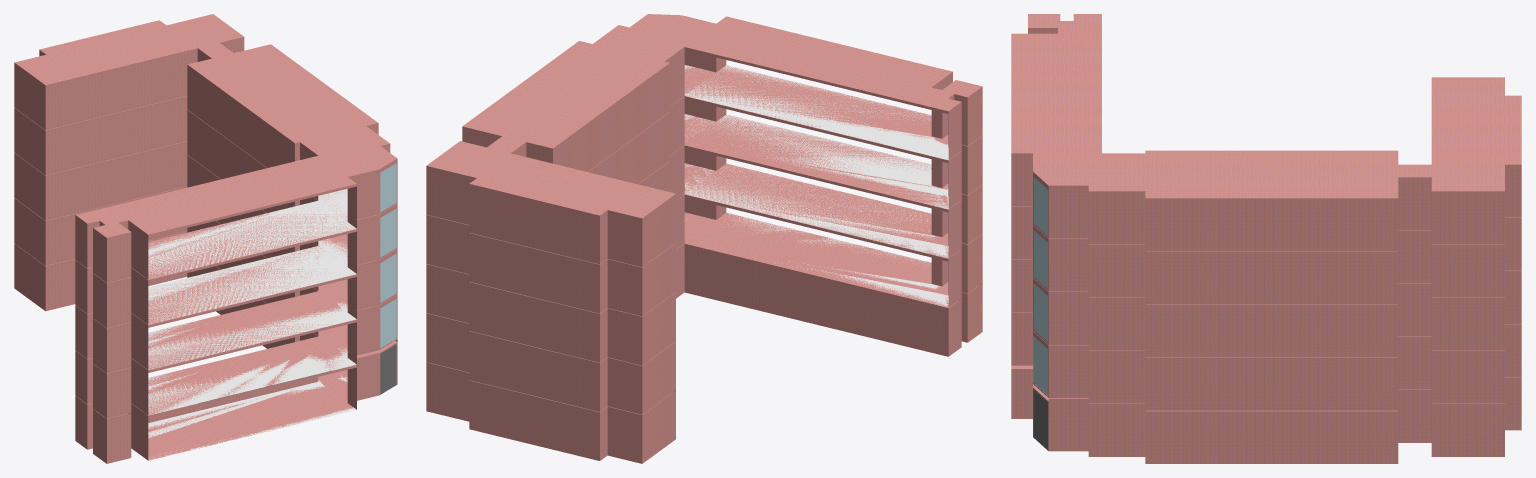
Rendered from inforch.gltf.
The picture shows the model from 3 angles, left to right: view 1: azimuth 30°, elevation 25°; view 2: azimuth 150°, elevation 25°; view 3: azimuth 270°, elevation 25°; orthographic projection. The views are drawn at different scales.
Visible parts, largest first — view 1: root, 缁勪欢#1 (×5); view 2: root, 缁勪欢#1 (×4); view 3: root.
Boxes of the visible parts, left/top/right/bottom form: root: left=14, top=14, right=397, bottom=463; 缁勪欢#1 (×5): left=148, top=189, right=356, bottom=460; root: left=426, top=14, right=982, bottom=463; 缁勪欢#1 (×4): left=684, top=65, right=948, bottom=306; root: left=1011, top=14, right=1521, bottom=463.
Size of the model in its own units: 78.6 by 52.79 by 91.9.
4 materials, 2 textured.
